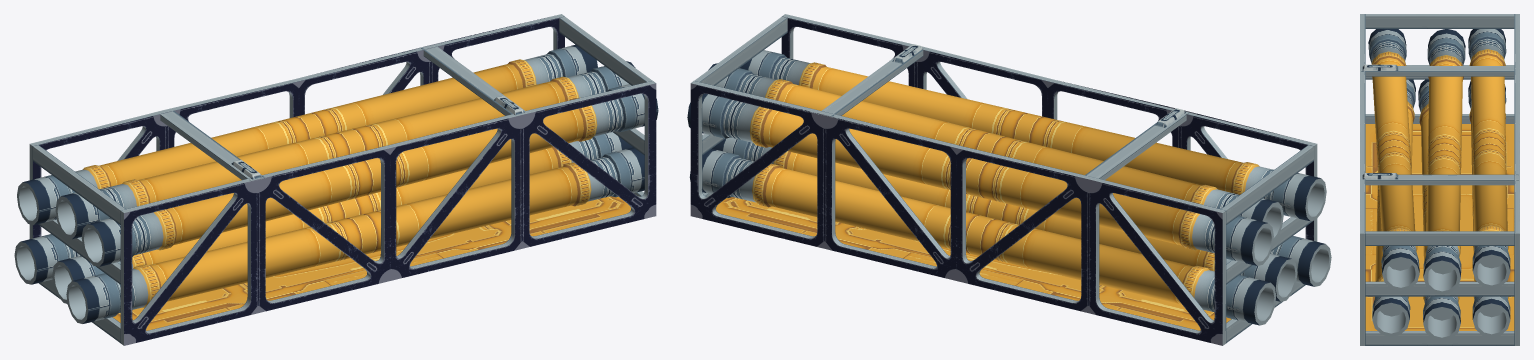
The model's file is pipe_cartridge.gltf.
3 views of the same model, side by side, from view 1: azimuth 30°, elevation 25°; view 2: azimuth 150°, elevation 25°; view 3: azimuth 270°, elevation 25° (orthographic). The views are drawn at different scales.
Visible parts, largest first — view 1: Prop_PipeHolder; view 2: Prop_PipeHolder; view 3: Prop_PipeHolder.
Part boxes in pixels (x1=…): Prop_PipeHolder: x1=14, y1=14, x2=658, y2=345; Prop_PipeHolder: x1=687, y1=14, x2=1331, y2=345; Prop_PipeHolder: x1=1360, y1=14, x2=1519, y2=345.
Size of the model in its own units: 4.12 by 0.9274 by 1.16.
3 materials, 3 textured.
